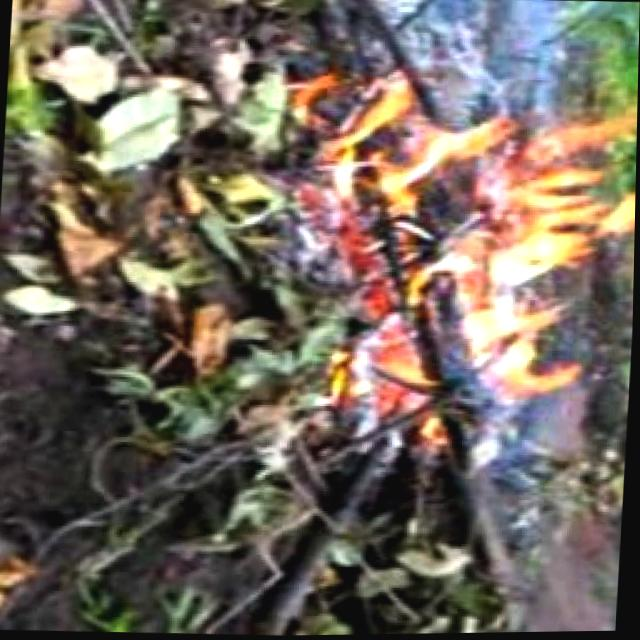helmet: (315, 82, 638, 438)
